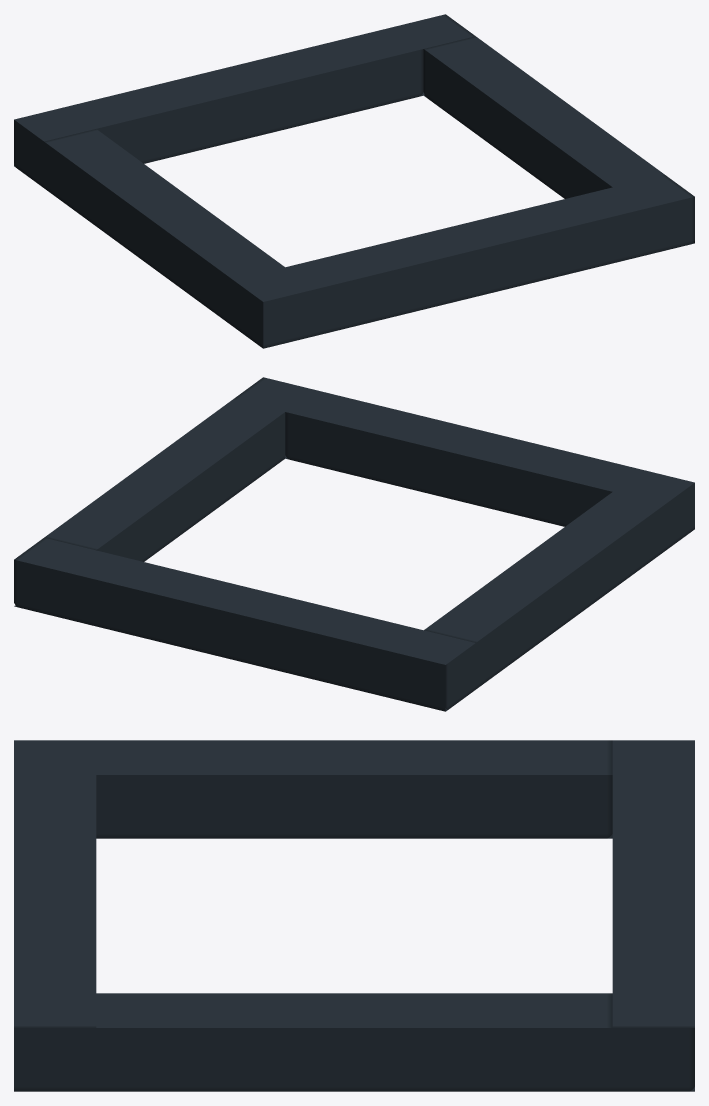
The model's file is lampy_4.dae.
3 views of the same model, one above another, from view 1: azimuth 30°, elevation 25°; view 2: azimuth 150°, elevation 25°; view 3: azimuth 270°, elevation 25° (orthographic). The views are drawn at different scales.
Parts seen in each view (by area): view 1: Content; view 2: Content; view 3: Content.
Part boxes in pixels (box(x1,y1,x2,y2)): Content: box(14, 14, 694, 348); Content: box(14, 377, 694, 711); Content: box(14, 740, 694, 1091).
Bounding box in the file's own units: 58 × 6 × 58.
Materials: 1 (1 with a texture image).
